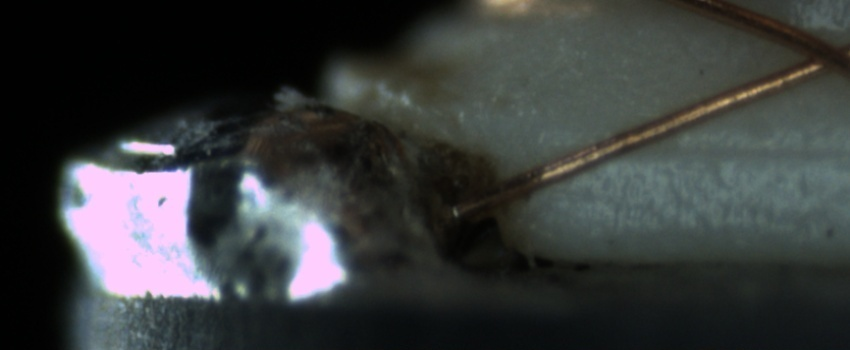CL: (776, 24, 848, 87)
DL: (572, 119, 843, 181)
